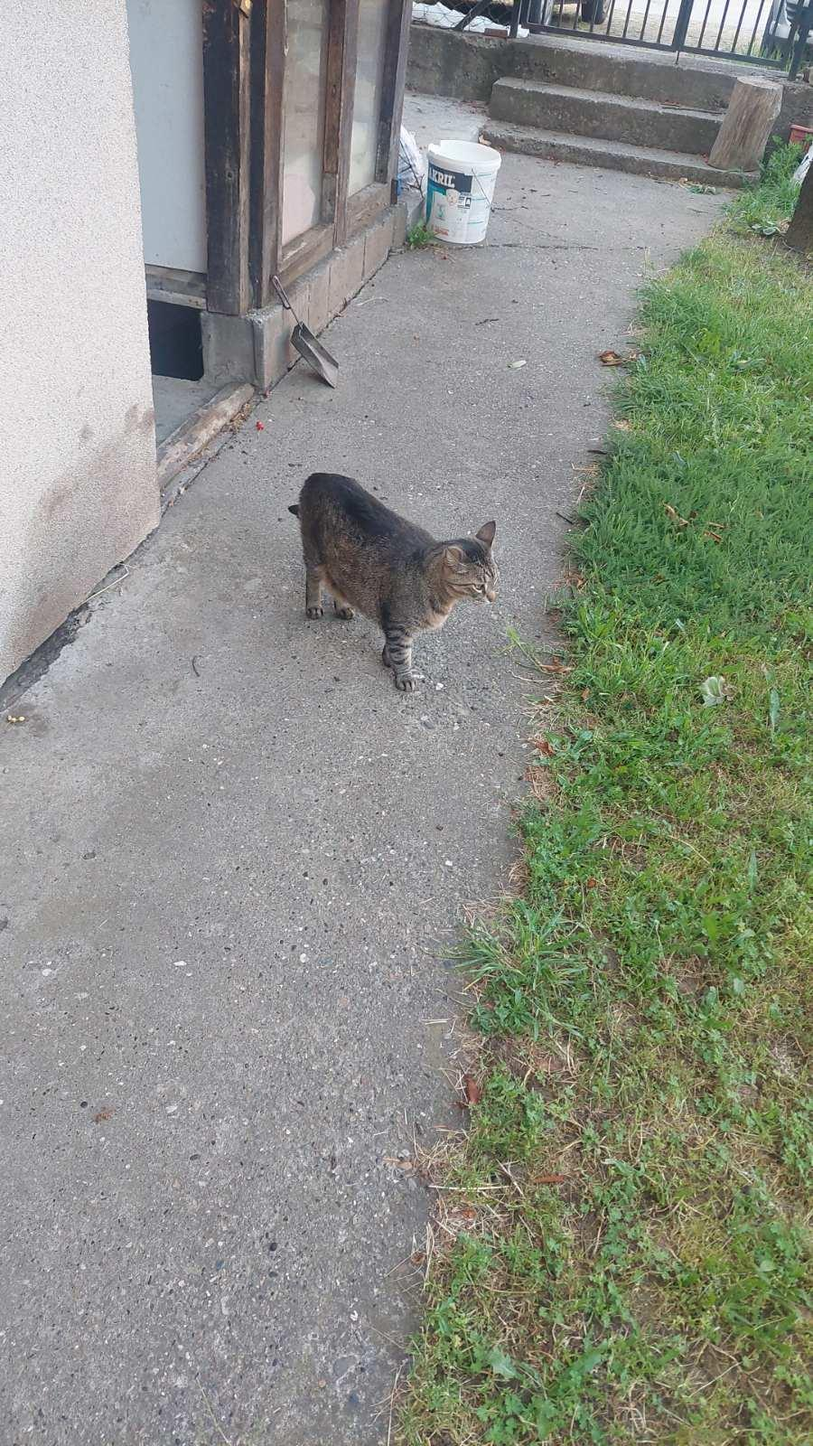macka: (286, 472, 499, 693)
